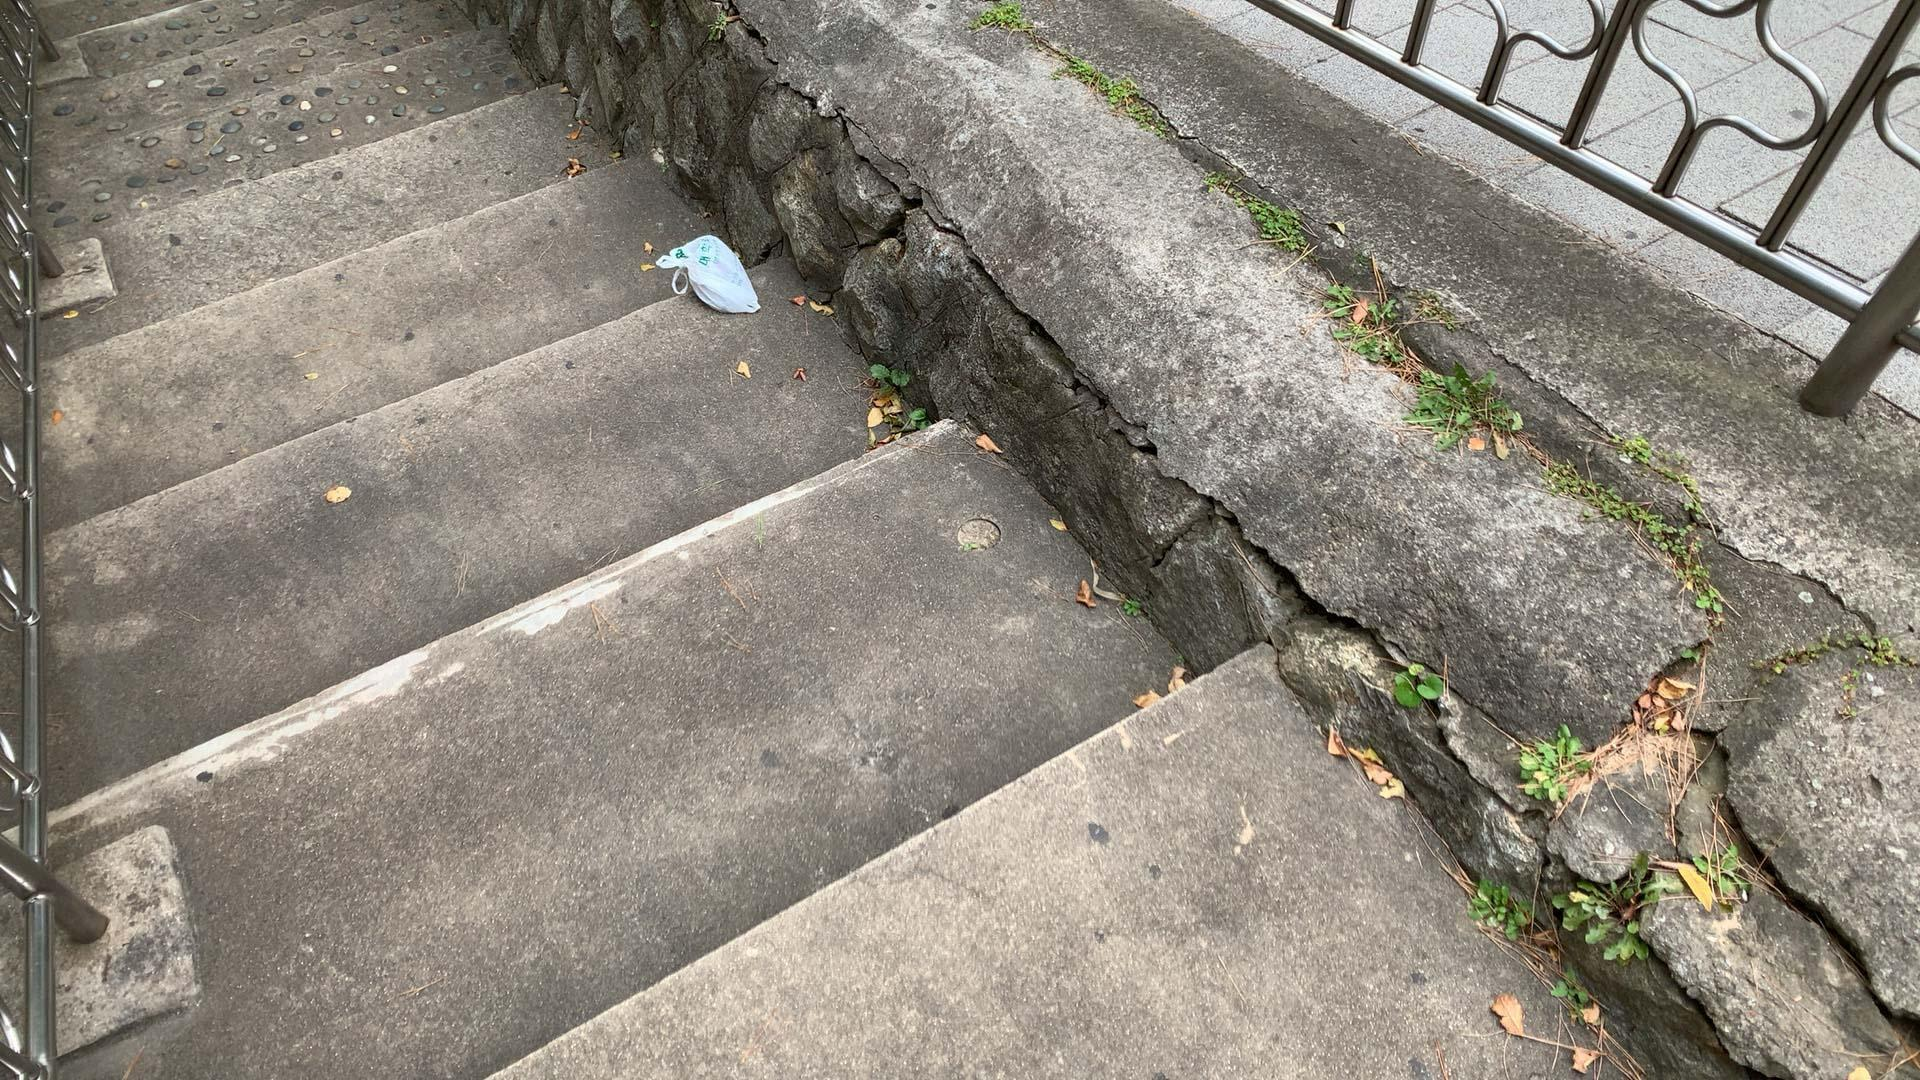white_bag: (649, 229, 767, 318)
